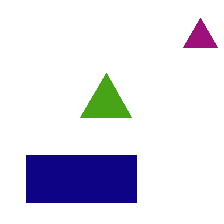rectangle: (26, 155, 136, 202)
triangle: (80, 73, 131, 117), (183, 18, 217, 47)
